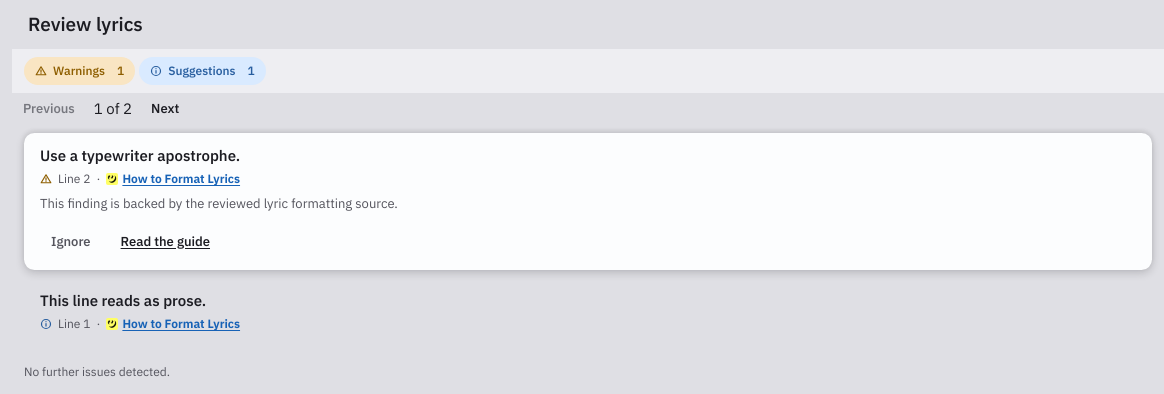
Test: the severity chips are on screen, and only for the kinds that are there › keeps a switched-off kind on screen, because its chip is the way back
Click the button "Warnings 1" at (80, 71), box [24, 57, 135, 85]
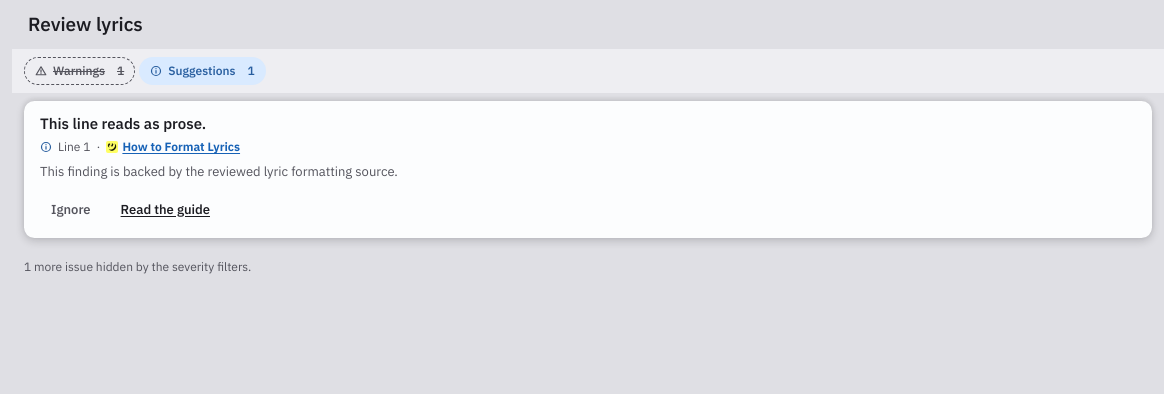
Now the button "Use a typewriter apostrophe." is gone
